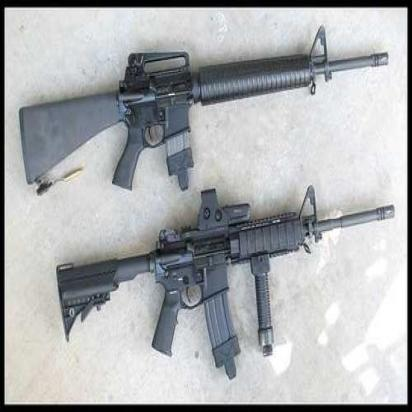Gun: (60, 188, 400, 380)
